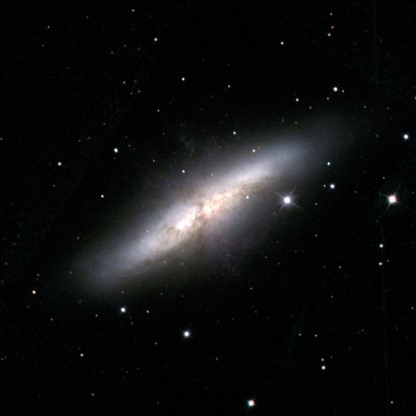Messier 82: (64, 97, 361, 307)
